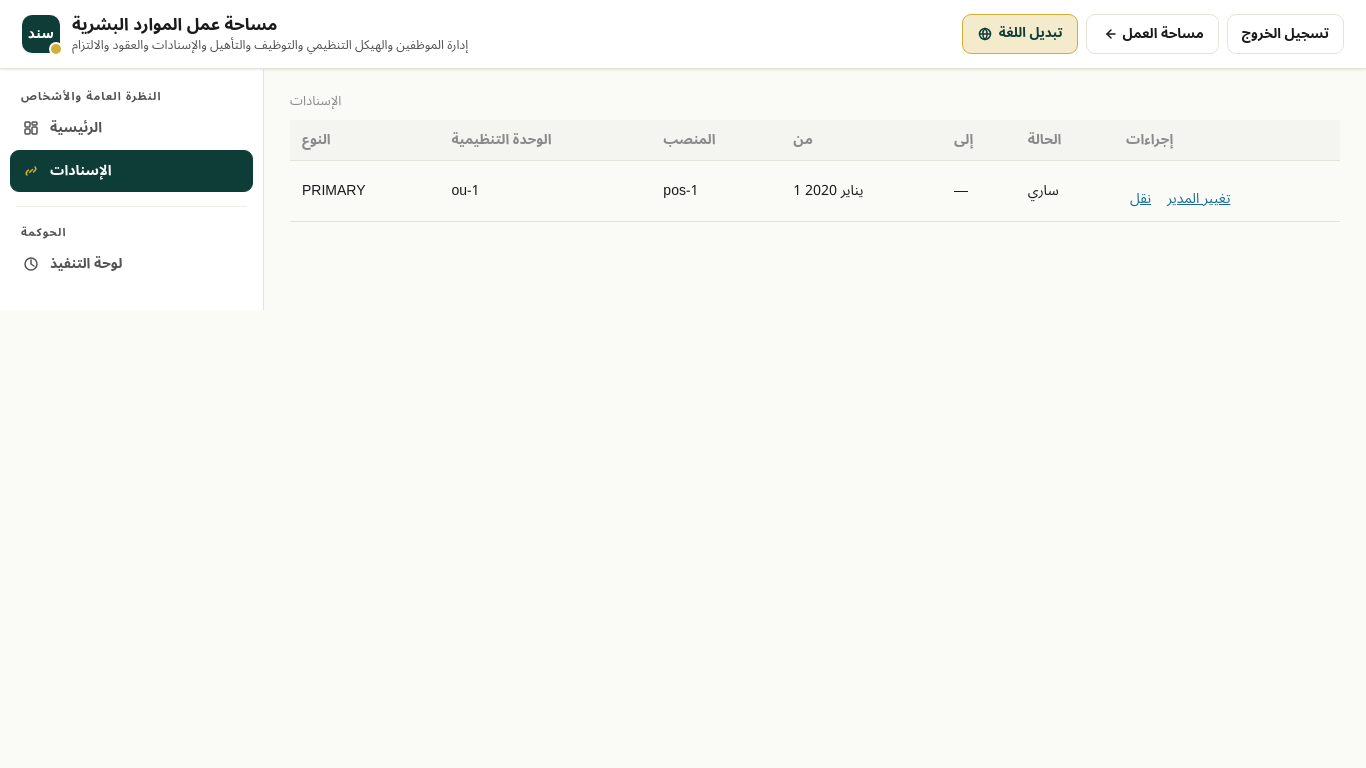
Test: Assignments workspace › renders the 409 conflict safely in the dialog without claiming success
The image size is (1366, 768).
expect the table is shown: met, box [290, 91, 1340, 222]
Click the button "نقل": (1141, 199) [1126, 186, 1155, 212]
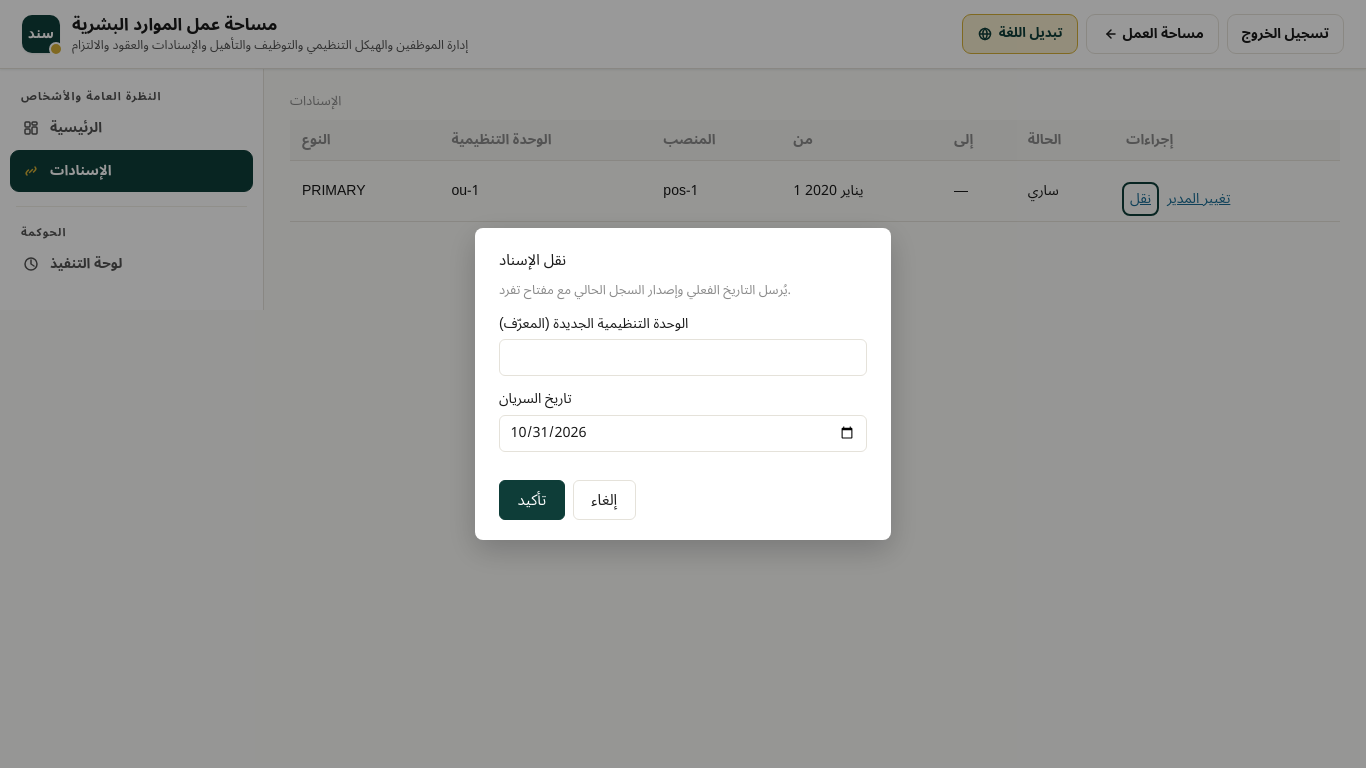
In the field labelled "الوحدة التنظيمية الجديدة (المعرّف)": (683, 358) [499, 339, 867, 376], type "ou-9"
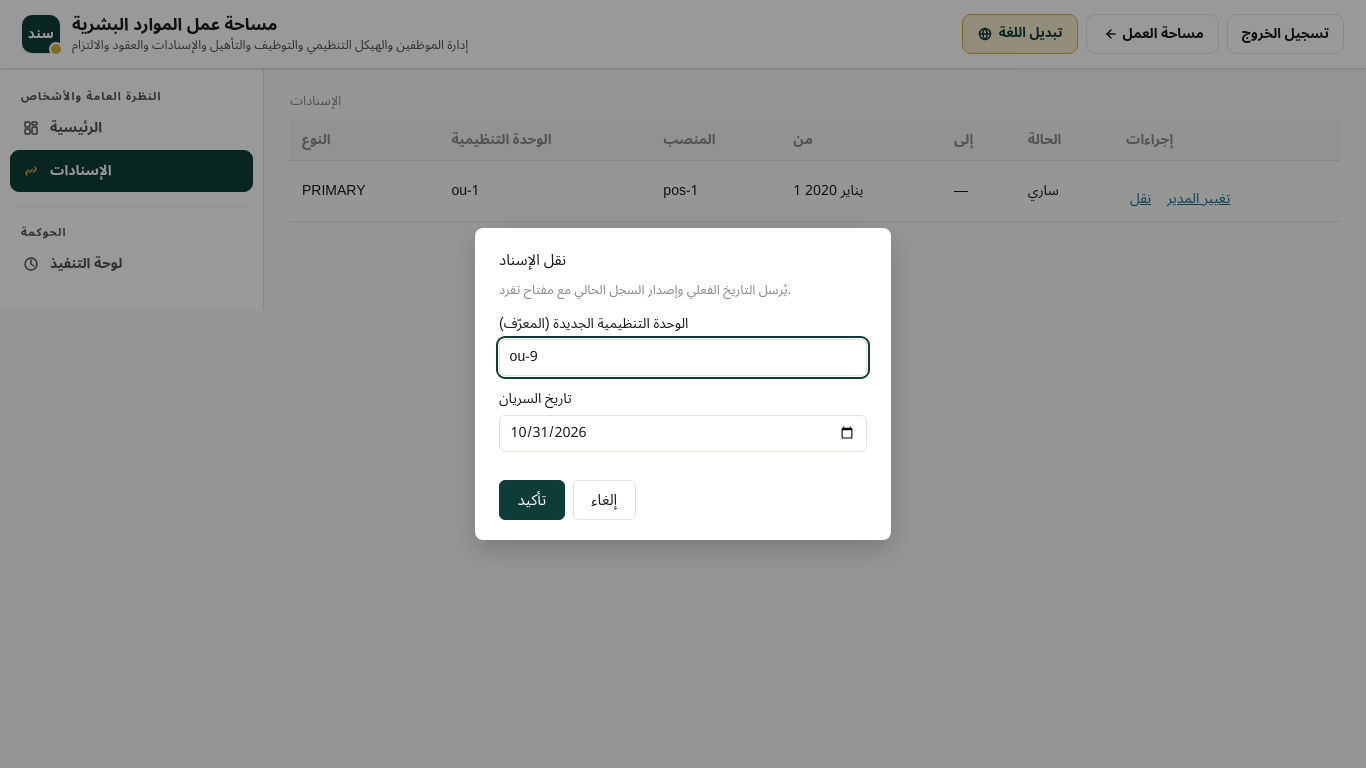
Click the button "تأكيد": (532, 500) [499, 480, 565, 520]
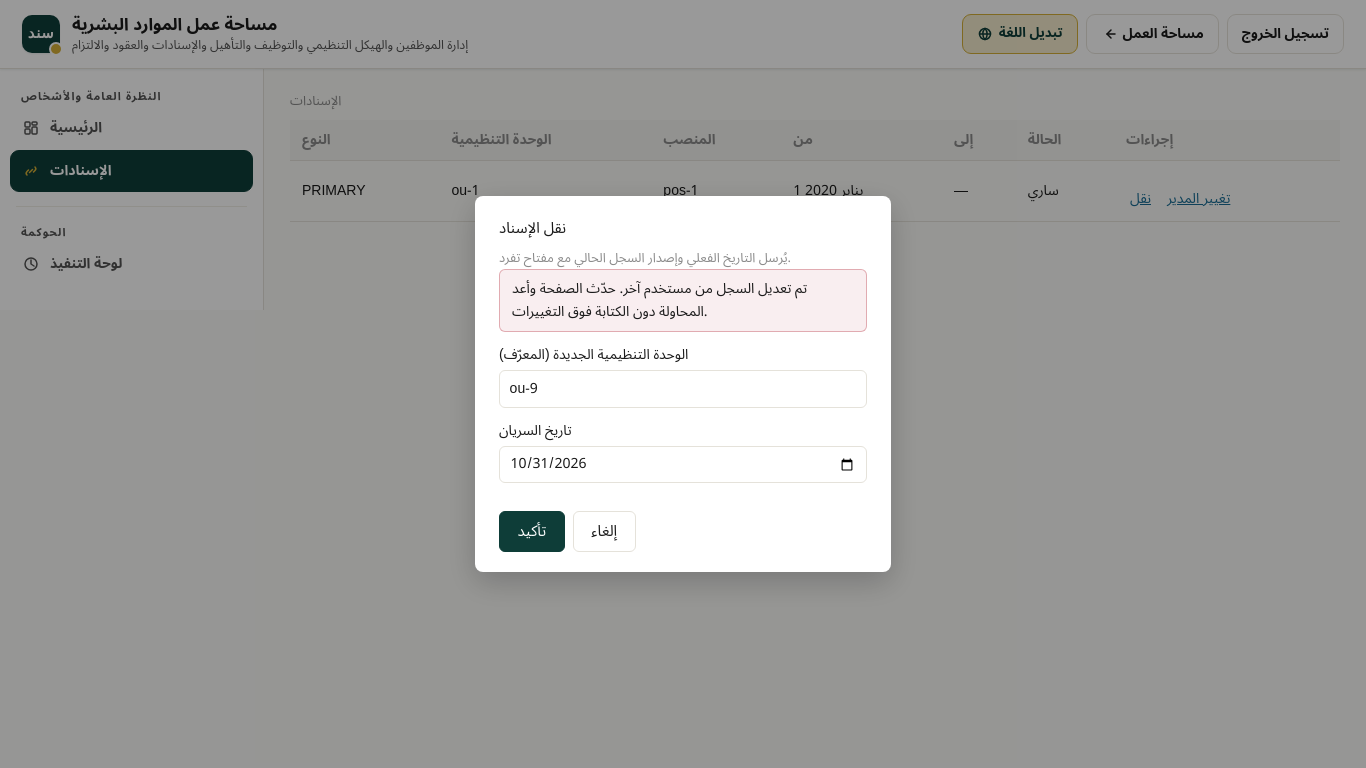
expect the message shows "مستخدم آخر": met, box [512, 274, 807, 326]
